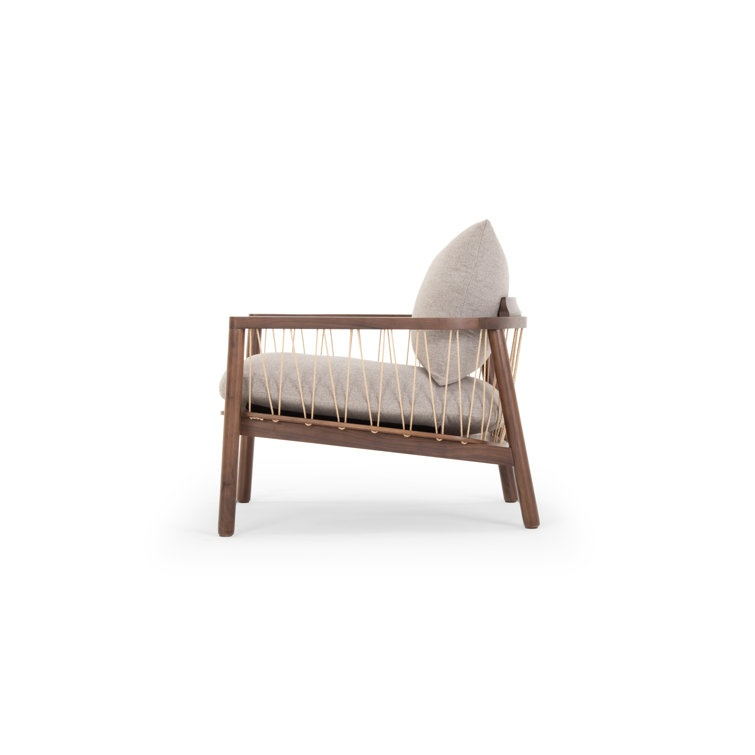obstacle: (218, 221, 538, 535)
